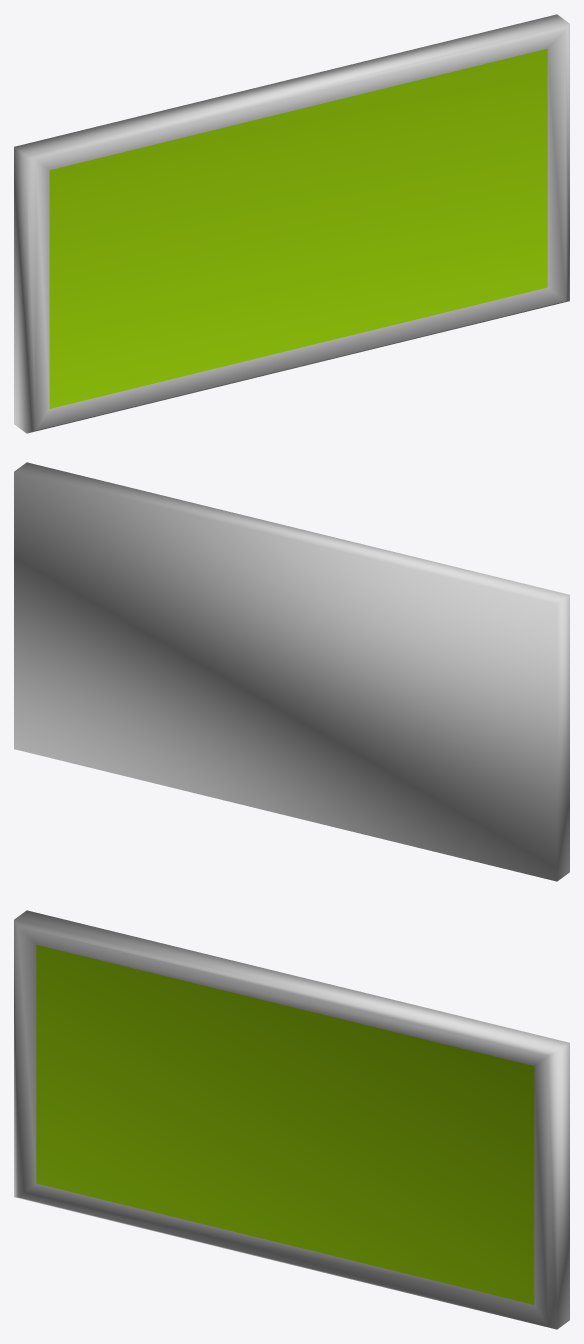
The model's file is newPainting2.fbx.
3 views of the same model, one above another, from view 1: azimuth 30°, elevation 25°; view 2: azimuth 150°, elevation 25°; view 3: azimuth 330°, elevation 25° (orthographic).
Visible parts, largest first — view 1: PaintingNewUV2; view 2: PaintingNewUV2; view 3: PaintingNewUV2.
Boxes of the visible parts, x1=… form: PaintingNewUV2: x1=14, y1=14, x2=569, y2=433; PaintingNewUV2: x1=14, y1=462, x2=569, y2=881; PaintingNewUV2: x1=14, y1=910, x2=569, y2=1329.
Size of the model in its own units: 262 by 128 by 12.76.
